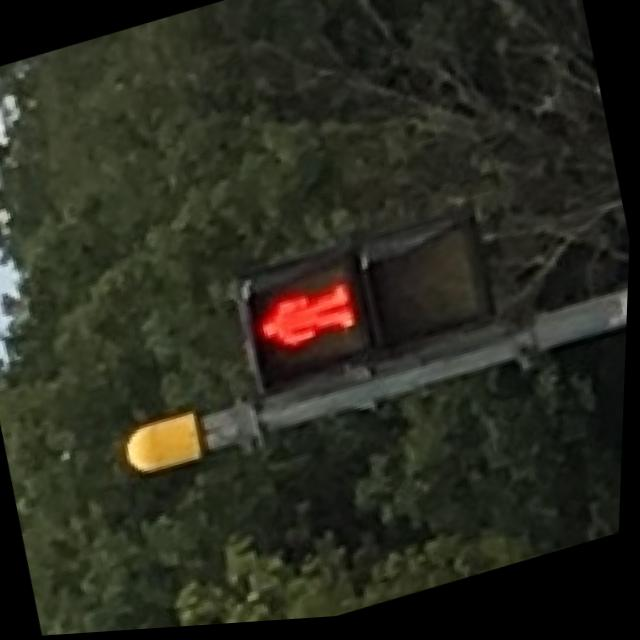red_light: (241, 263, 376, 391)
